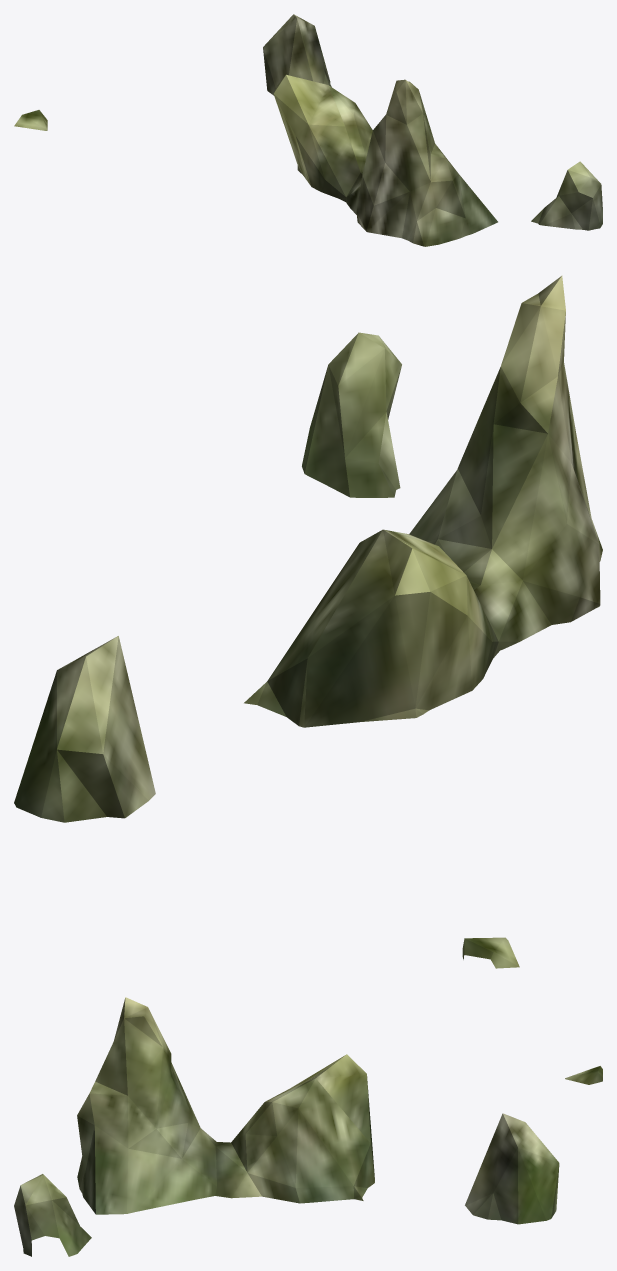
3 views of the same model, one above another, from view 1: azimuth 30°, elevation 25°; view 2: azimuth 150°, elevation 25°; view 3: azimuth 270°, elevation 25° (orthographic). The views are drawn at different scales.
Size of the model in its own units: 2.26 by 0.9627 by 2.97.
Materials: 1 (1 with a texture image).
